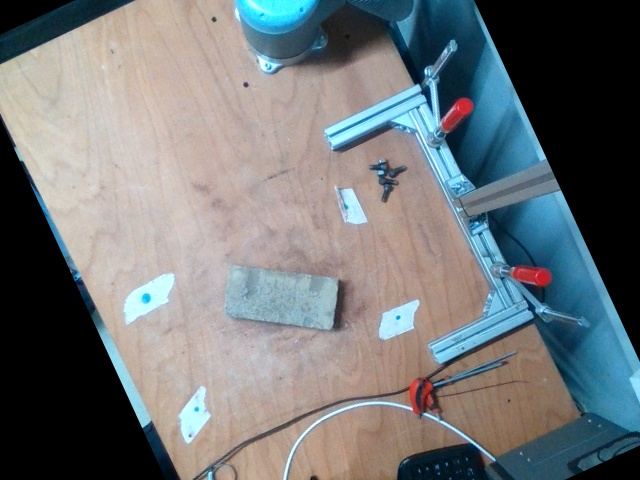brick: (226, 269, 336, 328)
